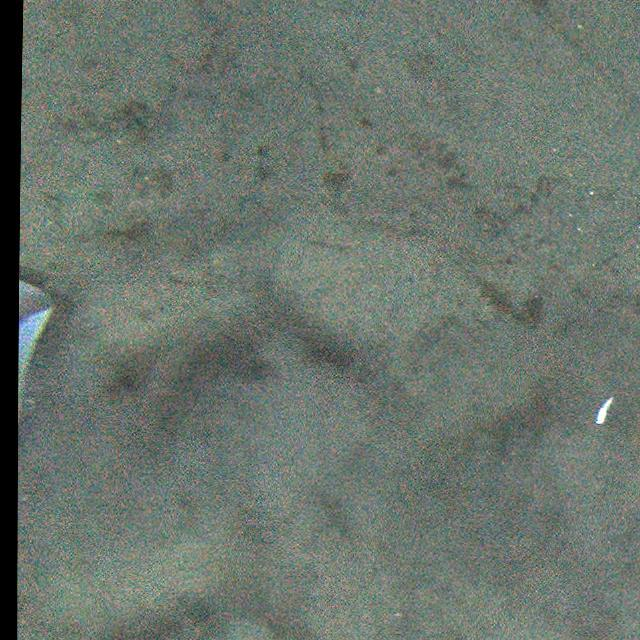skate: (19, 274, 60, 414)
